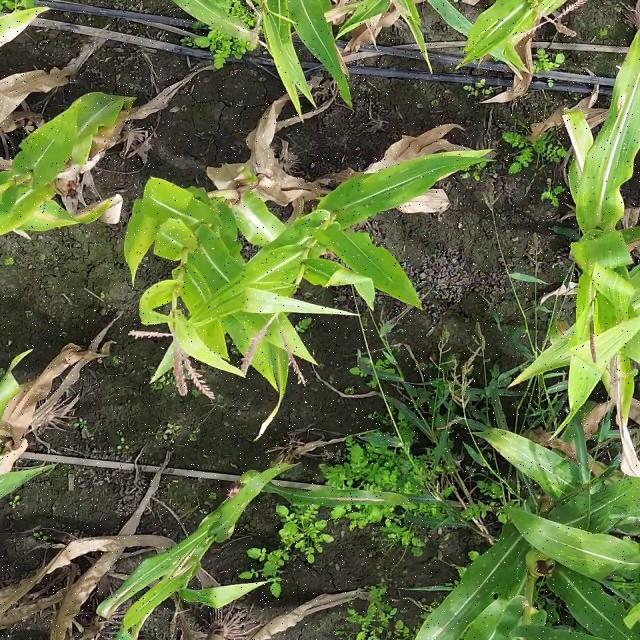gray-leaf-spot: (501, 430, 640, 594), (552, 61, 632, 227)
southern-leaf-blight: (150, 492, 260, 585)
